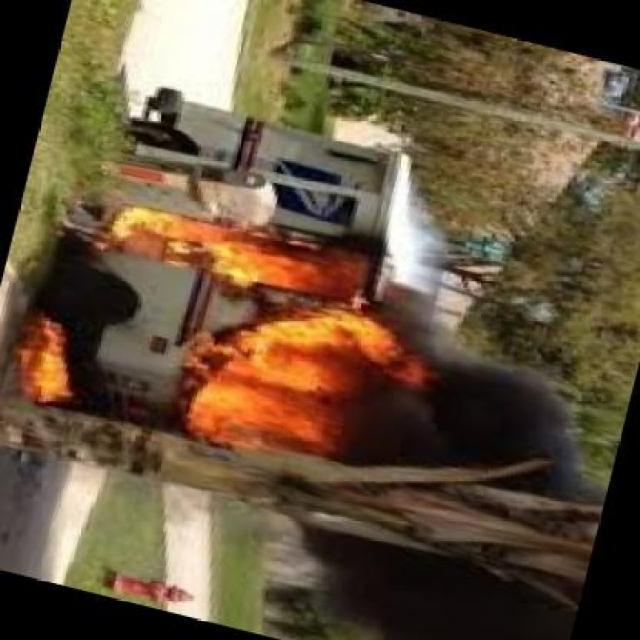Fire: (176, 304, 416, 458), (110, 196, 374, 306), (10, 305, 84, 439)
Smoke: (407, 308, 576, 636), (273, 514, 416, 626)
